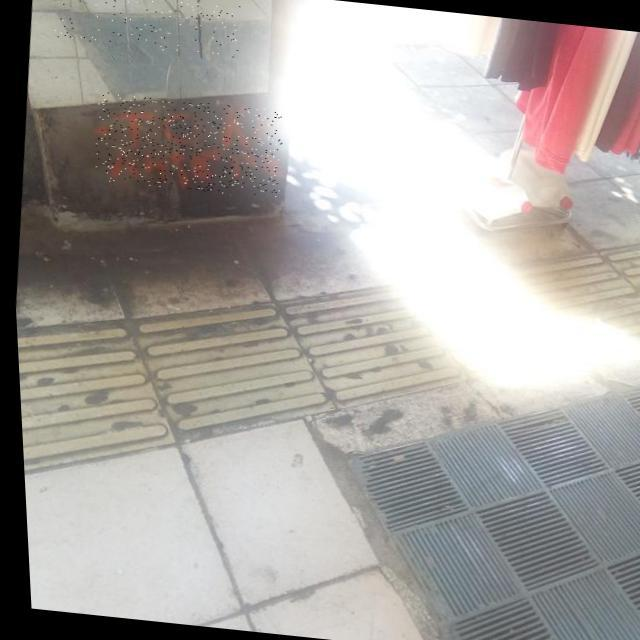-: (88, 91, 286, 199), (52, 0, 245, 58)
